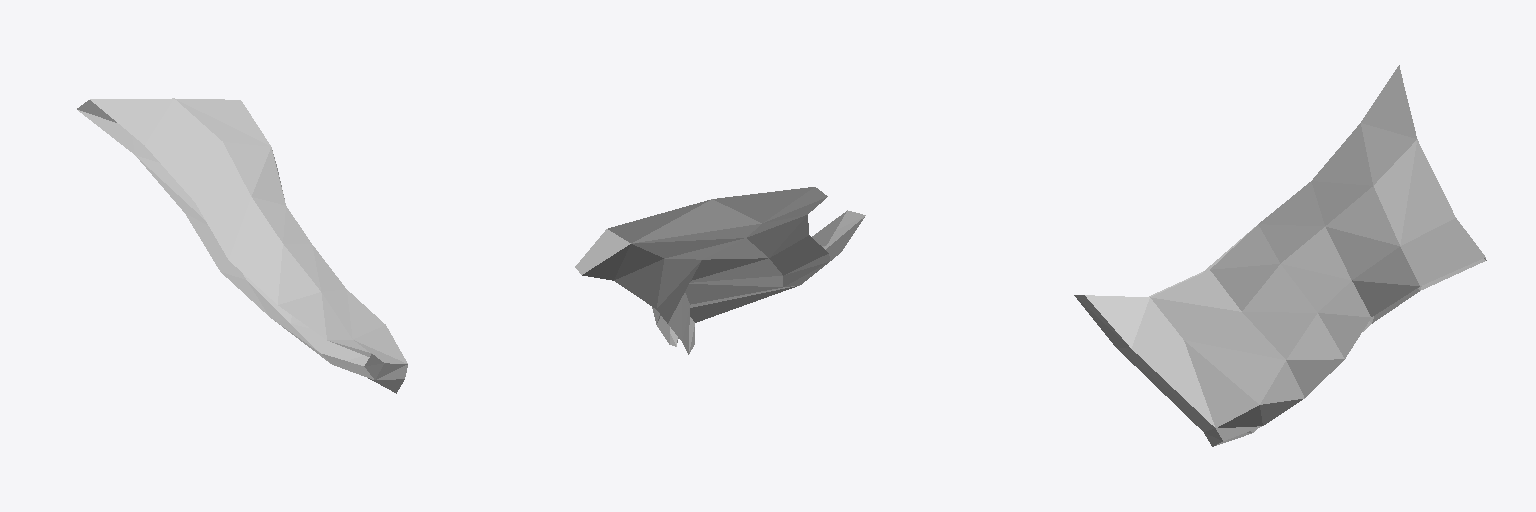
File: Hyoglossus_Muscle_Right.obj
3 renders of one model, left to right at view 1: azimuth 30°, elevation 25°; view 2: azimuth 150°, elevation 25°; view 3: azimuth 270°, elevation 25°, orthographic.
Parts seen in each view (by area): view 1: Hyoglossus_Muscle_Right_Mesh group1; view 2: Hyoglossus_Muscle_Right_Mesh group1; view 3: Hyoglossus_Muscle_Right_Mesh group1.
Part boxes in pixels (bbox=[...]): Hyoglossus_Muscle_Right_Mesh group1: bbox=[77, 98, 407, 393]; Hyoglossus_Muscle_Right_Mesh group1: bbox=[575, 187, 865, 354]; Hyoglossus_Muscle_Right_Mesh group1: bbox=[1074, 65, 1486, 446].
Size of the model in its own units: 0.2942 by 0.3256 by 0.4386.